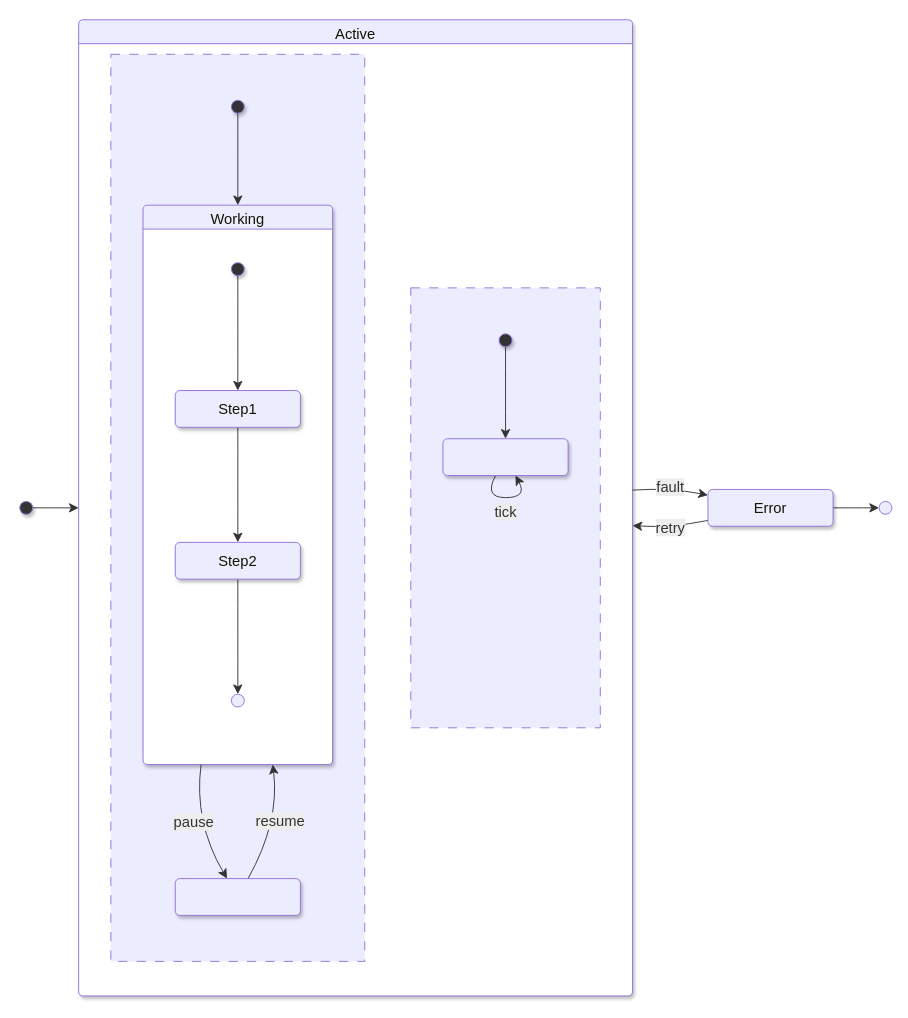
Some shapes in this 908 by 1018 pixel diagram are drawn without their labels. The shapes that lost their labels are listed below. From the top down, each one's centre as x and y in pixels, then its label:
At point (506, 458): "Monitoring".
At point (238, 898): "Paused".
